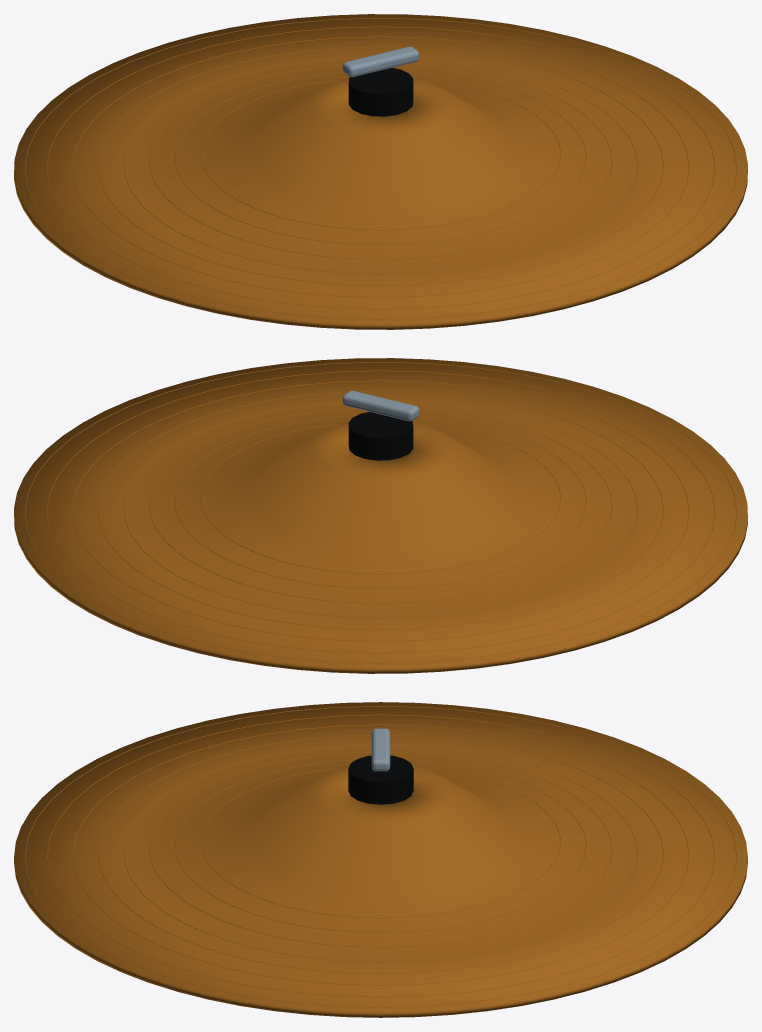
File: HiHat.obj
The picture shows the model from 3 angles, top to bottom: view 1: azimuth 30°, elevation 25°; view 2: azimuth 150°, elevation 25°; view 3: azimuth 270°, elevation 25°; orthographic projection.
Visible parts, largest first — view 1: HiHat.001; view 2: HiHat.001; view 3: HiHat.001.
Part boxes in pixels (x1=…): HiHat.001: x1=14, y1=14, x2=747, y2=329; HiHat.001: x1=14, y1=358, x2=747, y2=673; HiHat.001: x1=14, y1=702, x2=747, y2=1017.
Size of the model in its own units: 0.36 by 0.064 by 0.36.
